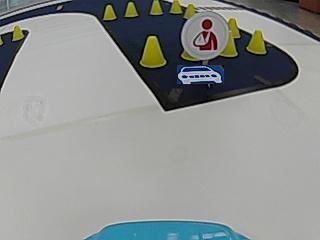cone: (140, 35, 165, 68), (246, 29, 267, 54), (220, 32, 237, 57), (102, 4, 117, 21), (124, 2, 138, 17), (150, 1, 163, 15), (12, 26, 23, 40), (170, 0, 181, 14)
patient: (185, 13, 225, 56)
